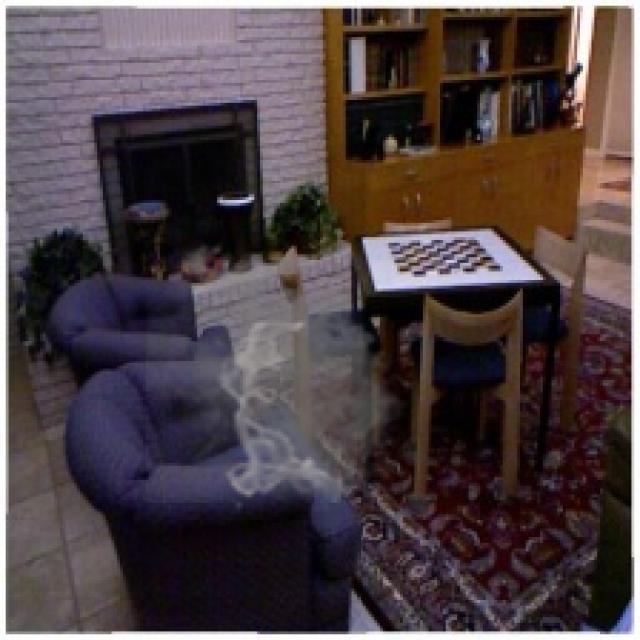smoke: (146, 237, 414, 506)
